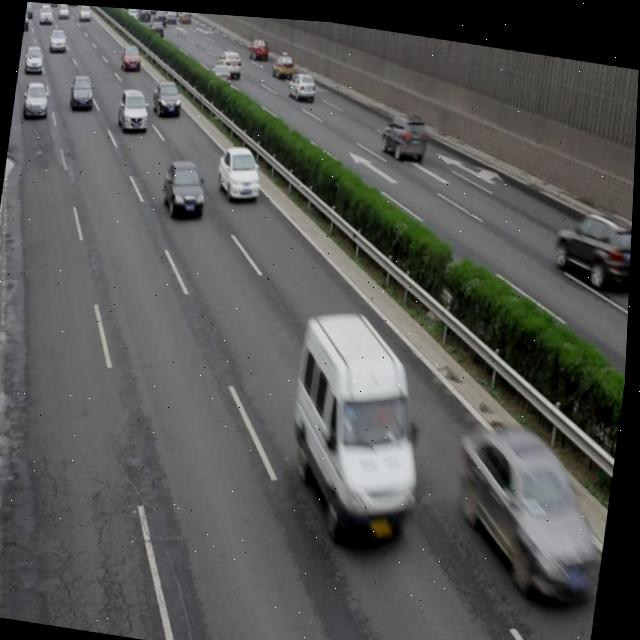car: (452, 411, 598, 596), (550, 194, 634, 283), (160, 152, 212, 221), (216, 138, 266, 200), (378, 103, 430, 158), (116, 82, 152, 134), (152, 74, 184, 117), (22, 77, 52, 121), (69, 72, 97, 113), (288, 66, 318, 98)
truck: (282, 299, 439, 543)
